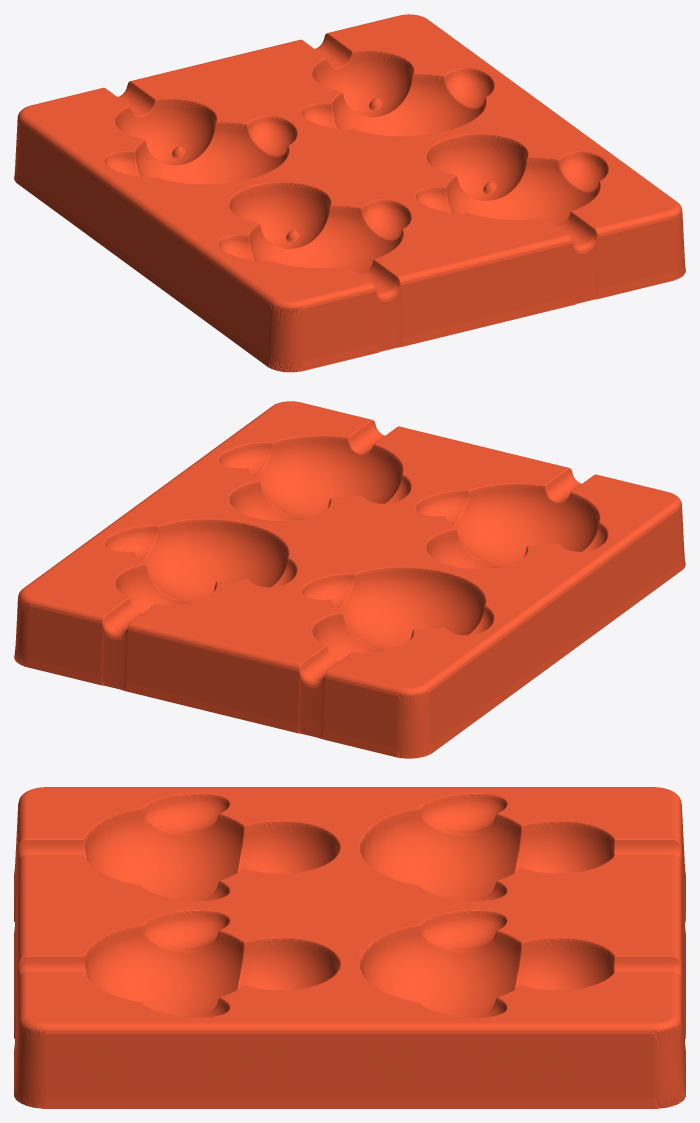
File: mold.glb
3 renders of one model, top to bottom at view 1: azimuth 30°, elevation 25°; view 2: azimuth 150°, elevation 25°; view 3: azimuth 270°, elevation 25°, orthographic. The views are drawn at different scales.
Parts seen in each view (by area): view 1: geometry_0; view 2: geometry_0; view 3: geometry_0.
Boxes of the visible parts, left/top/right/bottom form: geometry_0: left=14, top=14, right=685, bottom=372; geometry_0: left=14, top=401, right=685, bottom=758; geometry_0: left=14, top=787, right=685, bottom=1108.
Size of the model in its own units: 0.16 by 0.0245 by 0.1847.
